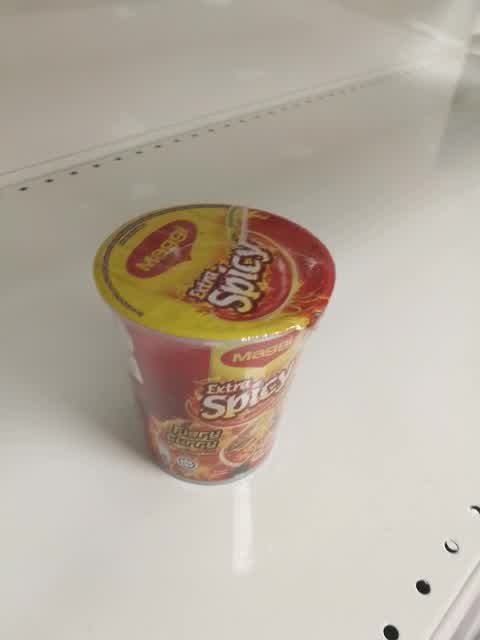maggi: (92, 203, 336, 488)
